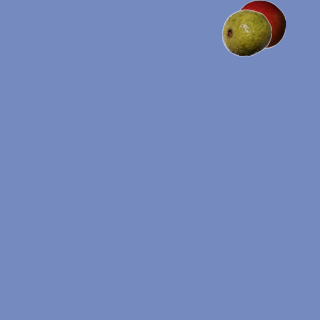Apple Braeburn: (235, 0, 285, 49)
Guava: (221, 7, 271, 57)
